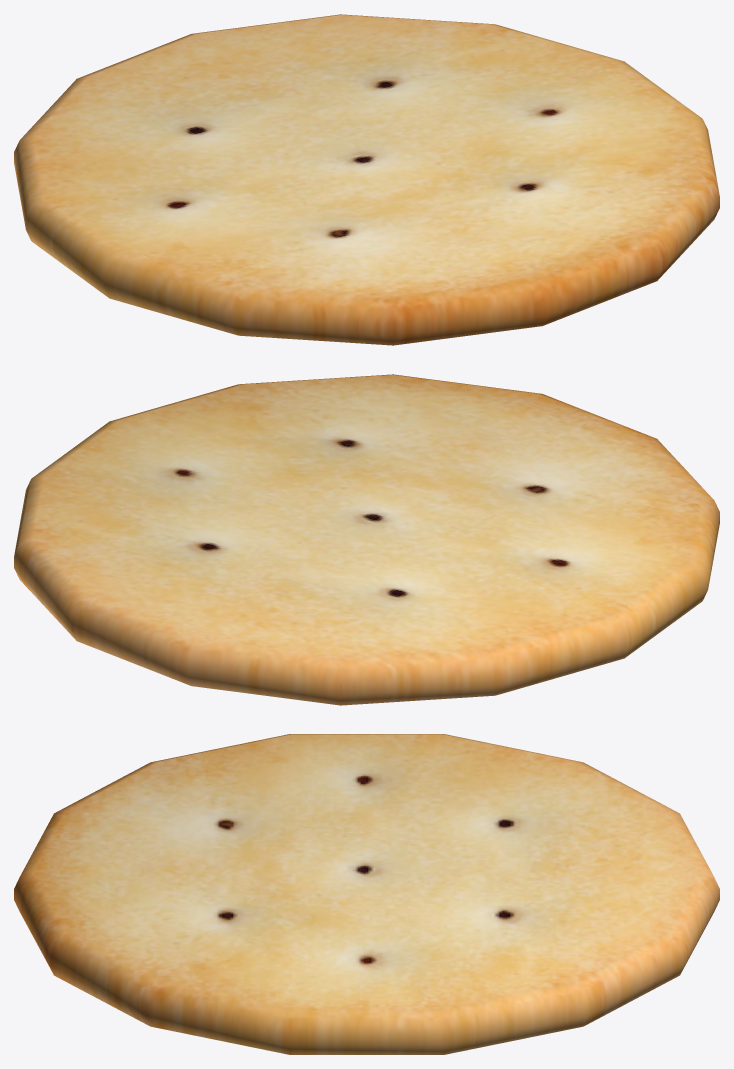
Rendered from candy_waf_1.fbx.
3 views of the same model, one above another, from view 1: azimuth 30°, elevation 25°; view 2: azimuth 150°, elevation 25°; view 3: azimuth 270°, elevation 25° (orthographic).
Visible parts, largest first — view 1: c_w_1; view 2: c_w_1; view 3: c_w_1.
Part boxes in pixels (left/top/right/bottom): c_w_1: left=14, top=14, right=719, bottom=345; c_w_1: left=14, top=374, right=719, bottom=705; c_w_1: left=14, top=734, right=719, bottom=1054.
Bounding box in the file's own units: 173 × 12.36 × 177.
